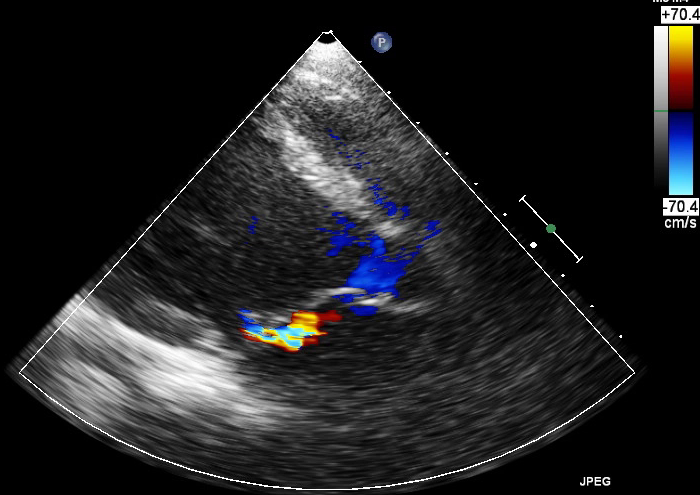MR: (237, 296, 314, 349)
